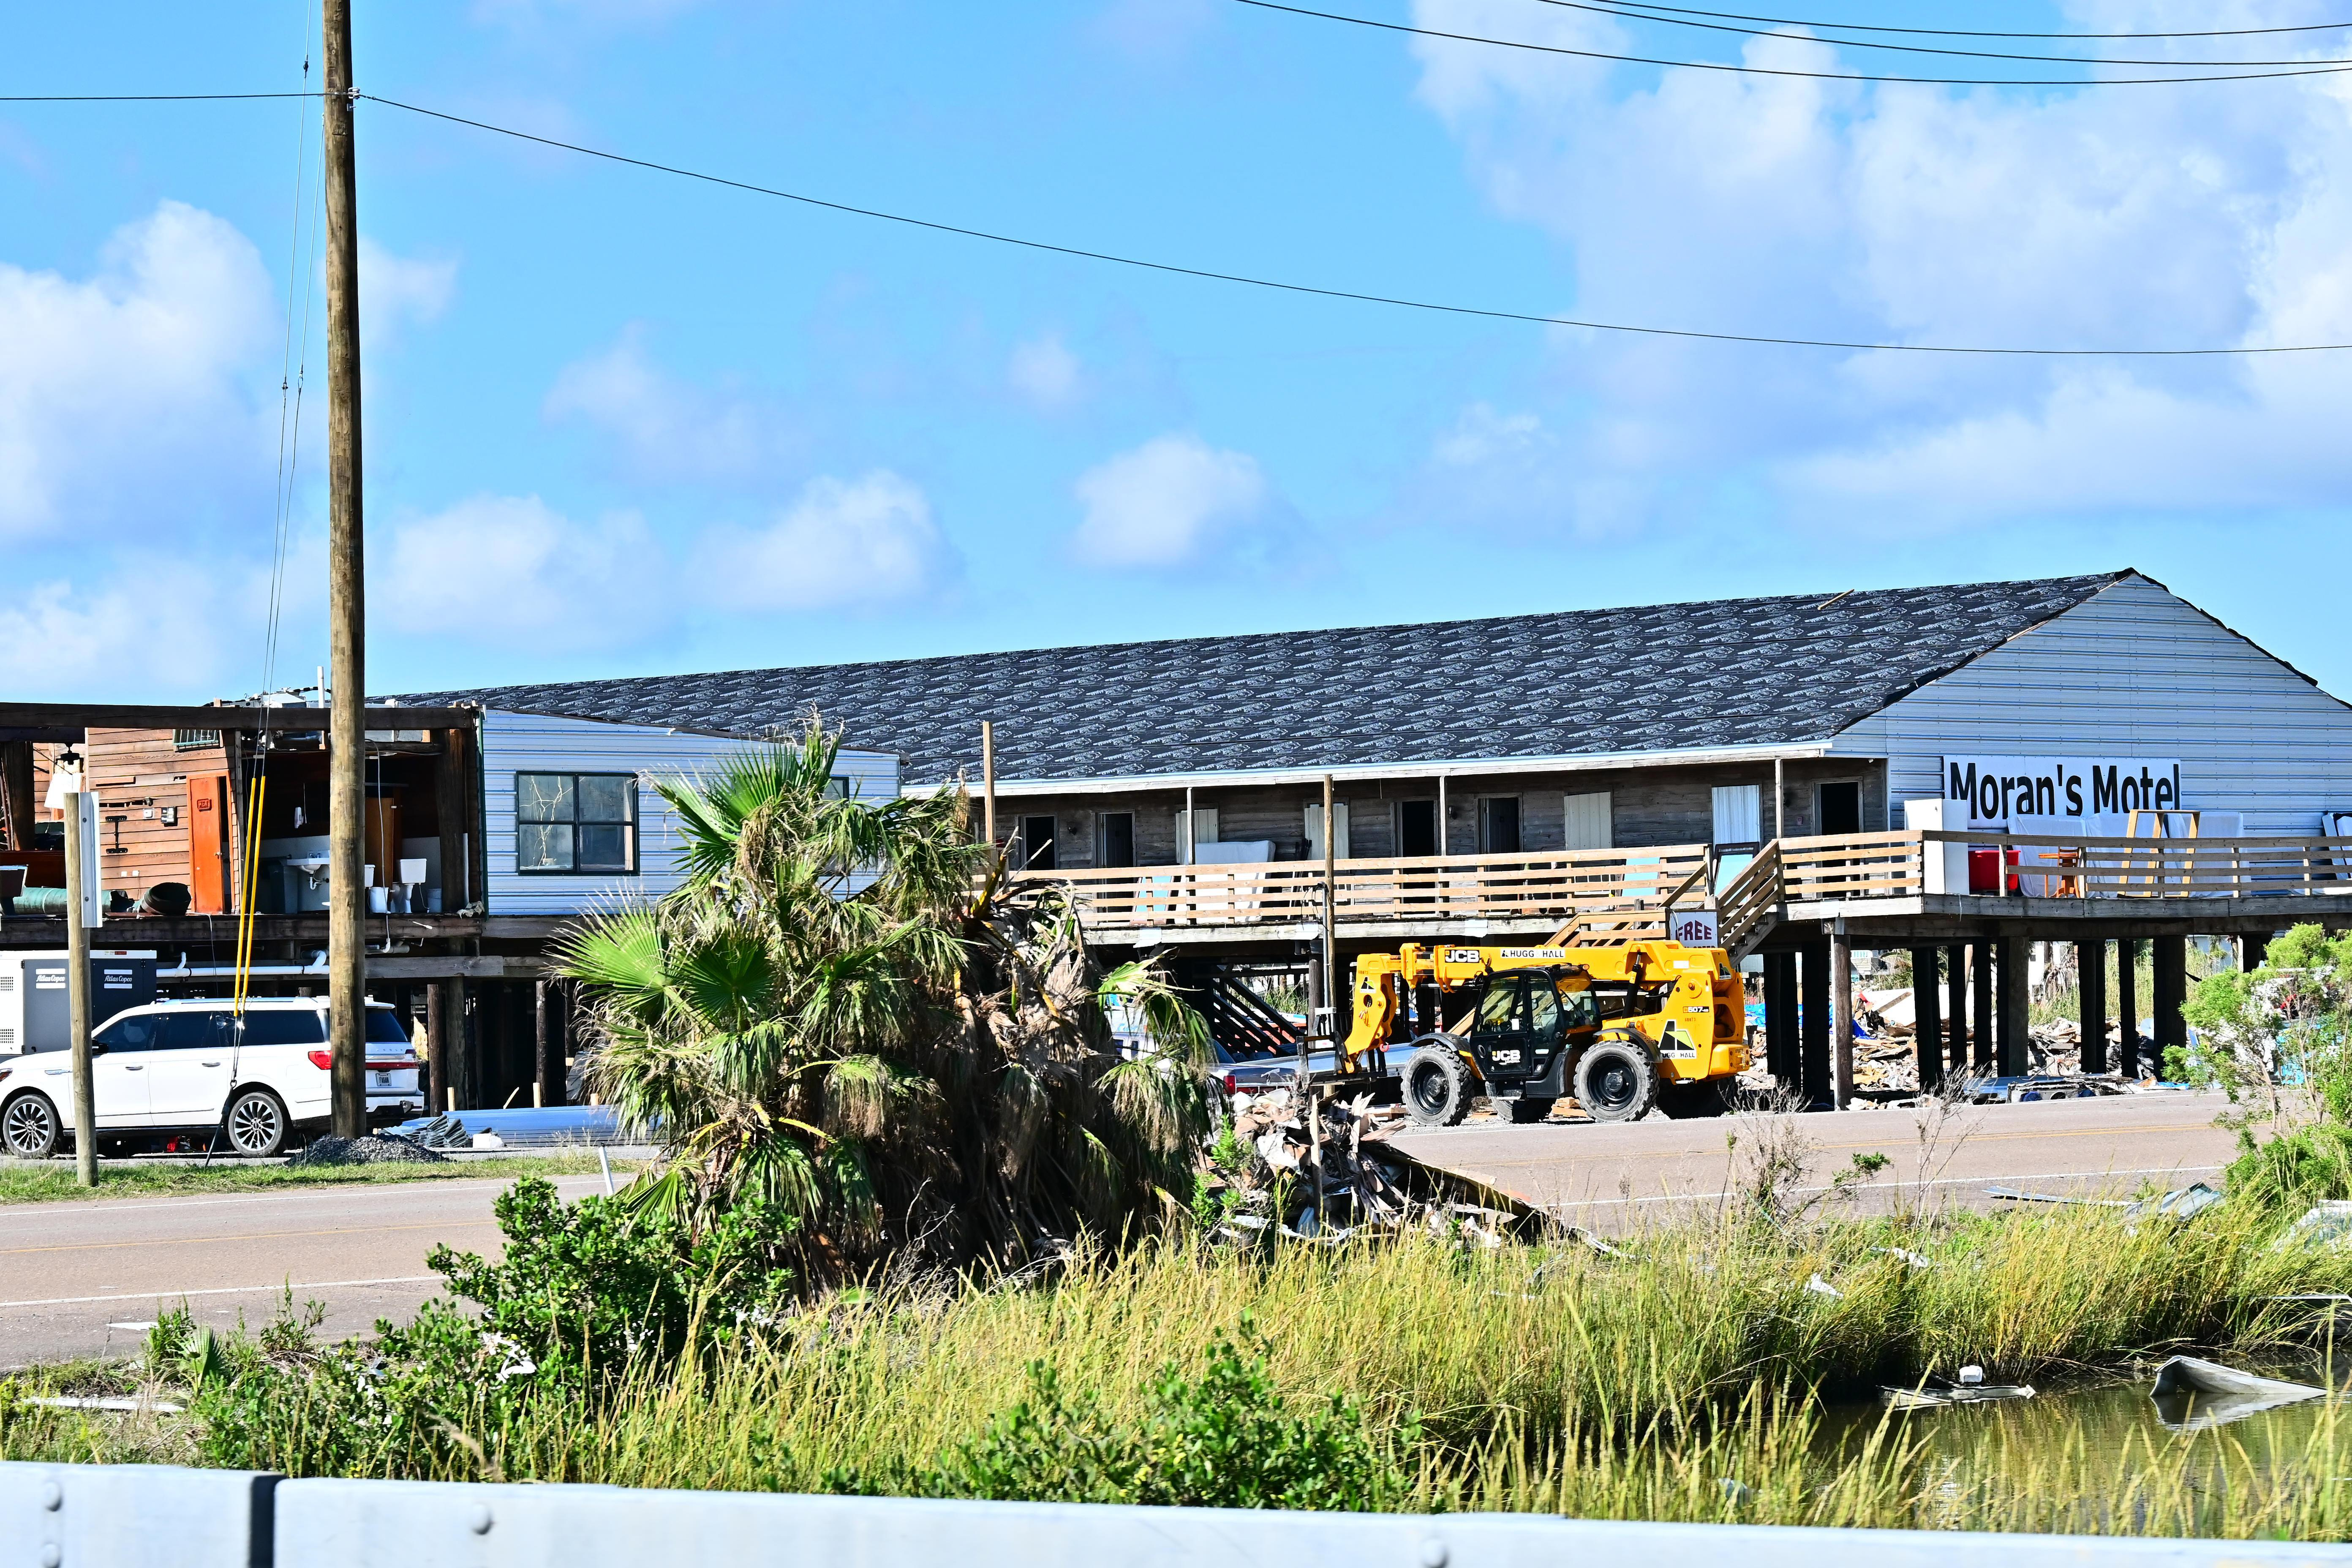affected: (0, 553, 2317, 1169)
